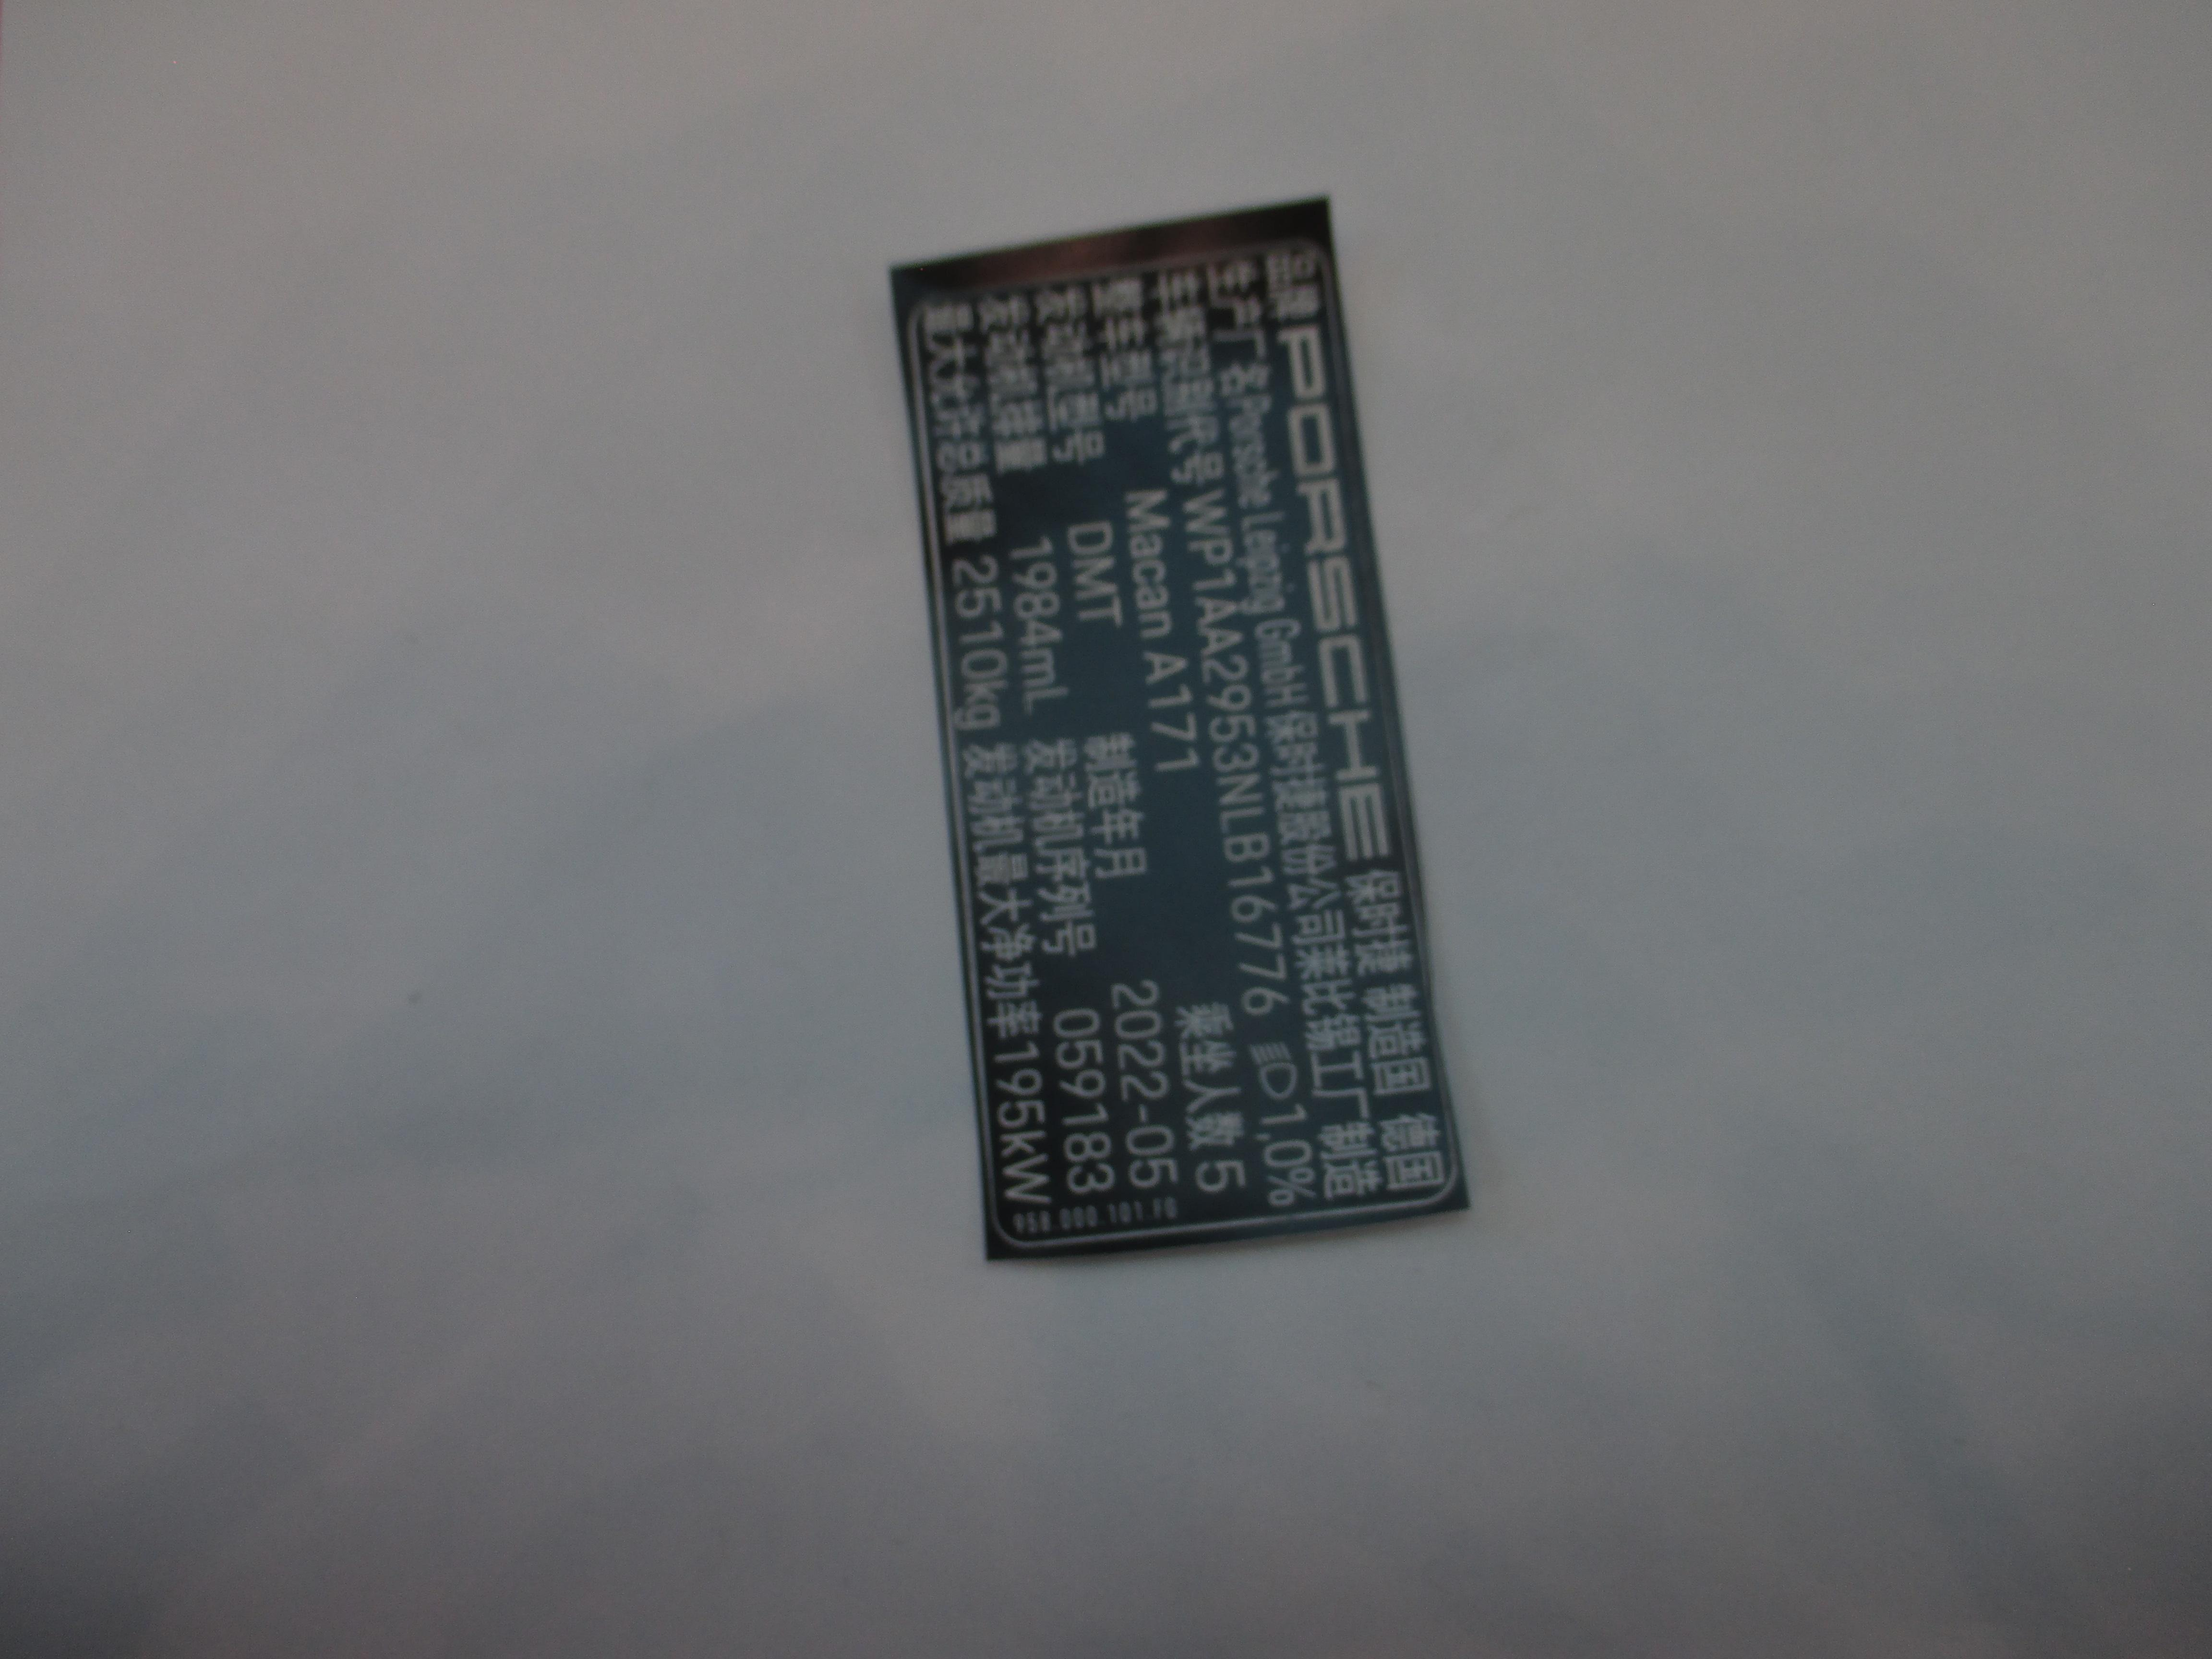Typlabel-China: (916, 249, 1449, 1241)
